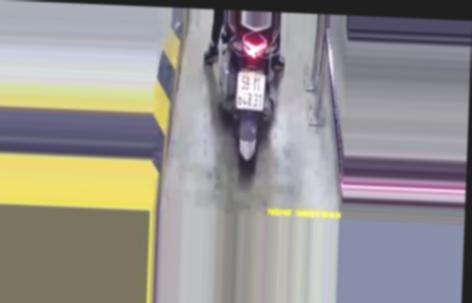License_Plate: (228, 71, 271, 113)
